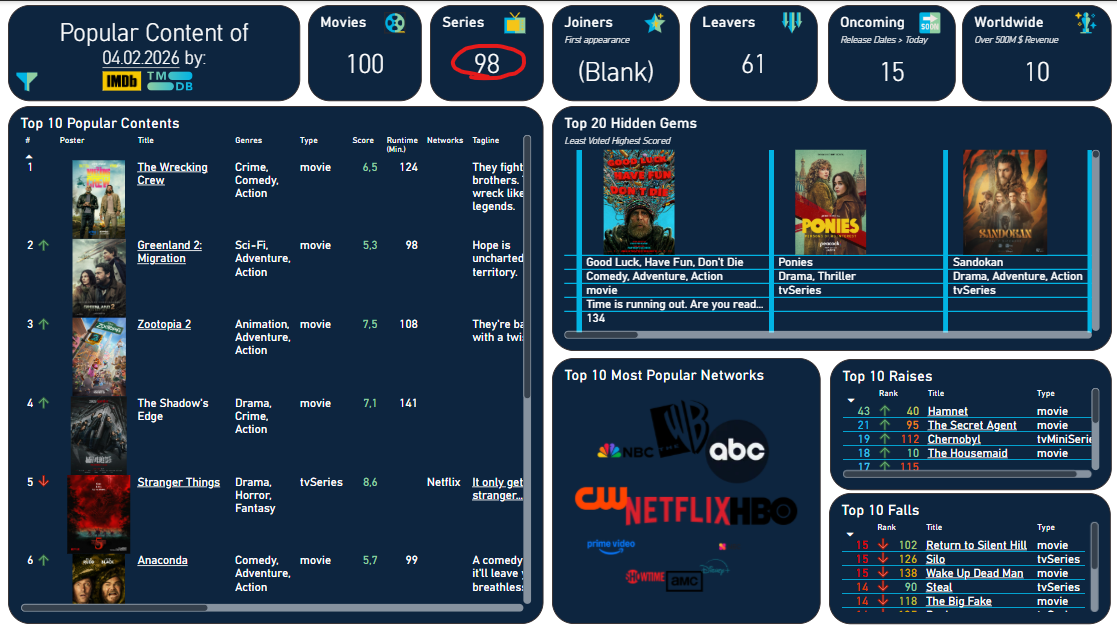

Layout of this report page (visuals, bound fields, positions):
{"tool":"powerbi","page":{"name":"Landing Page","canvas":[1280,720],"ordinal":0},"visuals":[{"type":"textbox","title":"Title","box":[10,5,305,130],"z":0,"group":"g6"},{"type":"card","title":"Binge Worthy","fields":{"Values":["dim_content.M_BingeWorthy"]},"box":[640,5,150,130],"z":0,"group":"g4"},{"type":"card","title":"Quick Watch","fields":{"Values":["dim_content.M_QuickWatch"]},"box":[800,5,152.6,127.7],"z":0,"group":"g3"},{"type":"card","title":"Oncoming","fields":{"Values":["dim_content.M_OnComing"]},"box":[960,5,150,130],"z":0,"group":"g2"},{"type":"card","title":"Global Reach","fields":{"Values":["dim_content.M_GlobalReach"]},"box":[1120,5,150,130],"z":0,"group":"g1"},{"type":"cardVisual","title":"Trending / Total","fields":{"Data":["dim_content.M_Content_Trending","dim_content.M_TotalContent"],"Rows":["dim_content.TypeDisplay"]},"box":[325,8,305,128],"z":0,"group":"g5"},{"type":"tableEx","title":"Top 10 Falls","fields":{"Values":["Key Measures.M_Display_RankChangeToday","Key Measures.M_Rank Today","dim_content.primary_title","dim_content.TypeDisplay","Key Measures.M_RankChangeToday"]},"box":[960,567,310,147],"z":0},{"type":"image","title":"iconBingeWatch","box":[750.6,5,32.8,32.6],"z":1000,"group":"g4"},{"type":"image","title":"iconQuickWatch","box":[909.6,5,33.3,37.1],"z":1000,"group":"g3"},{"type":"image","title":"iconOncomingNonSel","box":[1067.3,8.5,33.3,32],"z":1000,"group":"g2"},{"type":"image","title":"iconGlobalReachNonSel","box":[1233.5,8.5,33.3,32],"z":1000,"group":"g1"},{"type":"image","title":"iconTv","box":[584.2,77,30.5,32],"z":1000,"group":"g5"},{"type":"tableEx","title":"Top 10 Raises","fields":{"Values":["Key Measures.M_RankChangeToday","Key Measures.M_Display_RankChangeToday","Key Measures.M_Rank Today","dim_content.primary_title","dim_content.TypeDisplay"]},"box":[960,415,310,147],"z":1000},{"type":"image","title":"iconMovie","box":[584.2,53,30.5,32],"z":2000,"group":"g5"},{"type":"image","title":"iconFilterNonSel","box":[14.6,80,31.1,34],"z":2000,"group":"g6"},{"type":"ImageGrid_FC5183B9_926C_45E0_B5F7_0CE9EAF1DA9B","title":"Top 10 Most Popular Networks","fields":{"ImageURLHQ":["dim_network.Poster"],"Value":["Sum(fact_popularity.Popularity)"]},"box":[640,415,310,300],"z":2000},{"type":"image","title":"logoTMDB","box":[149.3,80,60.1,32],"z":3000,"group":"g6"},{"type":"pivotTable","title":"Top 20 Hidden Gems","fields":{"Rows":["dim_content.Title"],"Values":["Min(dim_content.Poster)","Min(dim_content.TypeDisplay)","Min(dim_content.Genres)","Sum(dim_content.Score)","Min(dim_content.Runtime_HM_col)","Min(dim_content.Tagline)"]},"box":[640,140,630,270],"z":3000},{"type":"image","title":"logoIMDB","box":[98.3,80,60.1,32],"z":4000,"group":"g6"},{"type":"tableEx","title":"Top 10 Most Popular Contents","fields":{"Values":["fact_popularity.Rank Today","Key Measures.M_Display_RankChangeToday","dim_content.content_poster","dim_content.primary_title","dim_content.GenreList","dim_content.TypeDisplay","dim_content.Score","dim_content.NetworksDisplay","dim_content.TrailerDisplay","dim_content.Release Date.Variation.Date Hierarchy.Year","dim_content.Tagline","dim_content.Language"]},"box":[10,140,620,575],"z":4000},{"type":"group","id":"g1","title":"GlobalReach","box":[1120,5,150,130],"z":5000},{"type":"group","id":"g2","title":"Oncoming","box":[960,5,150,130],"z":6000},{"type":"group","id":"g3","title":"Quick Watch","box":[800,5,150,130],"z":7000},{"type":"group","id":"g4","title":"Binge Watch","box":[640,5,150,130],"z":8000},{"type":"group","id":"g5","title":"Trending","box":[325,8,305,128],"z":9000},{"type":"group","id":"g6","title":"Title","box":[10,5,305,130],"z":10000}]}

Visuals, with their boxes in screenshot pixels (x1, y1, x2, y2), scaled from the page's 1280x720 canvas onto the 1117x630 screenshot:
"Title" textbox: x1=9, y1=4, x2=275, y2=118
"Binge Worthy" card: x1=558, y1=4, x2=689, y2=118
"Quick Watch" card: x1=698, y1=4, x2=831, y2=116
"Oncoming" card: x1=838, y1=4, x2=969, y2=118
"Global Reach" card: x1=977, y1=4, x2=1108, y2=118
"Trending / Total" cardVisual: x1=284, y1=7, x2=550, y2=119
"Top 10 Falls" tableEx: x1=838, y1=496, x2=1108, y2=625
"iconBingeWatch" image: x1=655, y1=4, x2=684, y2=33
"iconQuickWatch" image: x1=794, y1=4, x2=823, y2=37
"iconOncomingNonSel" image: x1=931, y1=7, x2=960, y2=35
"iconGlobalReachNonSel" image: x1=1076, y1=7, x2=1105, y2=35
"iconTv" image: x1=510, y1=67, x2=536, y2=95
"Top 10 Raises" tableEx: x1=838, y1=363, x2=1108, y2=492
"iconMovie" image: x1=510, y1=46, x2=536, y2=74
"iconFilterNonSel" image: x1=13, y1=70, x2=40, y2=100
"Top 10 Most Popular Networks" ImageGrid_FC5183B9_926C_45E0_B5F7_0CE9EAF1DA9B: x1=558, y1=363, x2=829, y2=626
"logoTMDB" image: x1=130, y1=70, x2=183, y2=98
"Top 20 Hidden Gems" pivotTable: x1=558, y1=122, x2=1108, y2=359
"logoIMDB" image: x1=86, y1=70, x2=138, y2=98
"Top 10 Most Popular Contents" tableEx: x1=9, y1=122, x2=550, y2=626
"GlobalReach" group: x1=977, y1=4, x2=1108, y2=118
"Oncoming" group: x1=838, y1=4, x2=969, y2=118
"Quick Watch" group: x1=698, y1=4, x2=829, y2=118
"Binge Watch" group: x1=558, y1=4, x2=689, y2=118
"Trending" group: x1=284, y1=7, x2=550, y2=119
"Title" group: x1=9, y1=4, x2=275, y2=118
